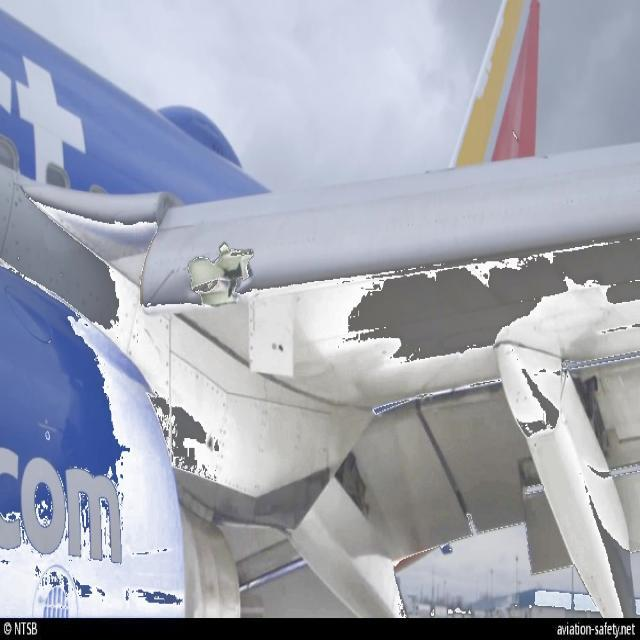crack: (189, 244, 257, 311)
